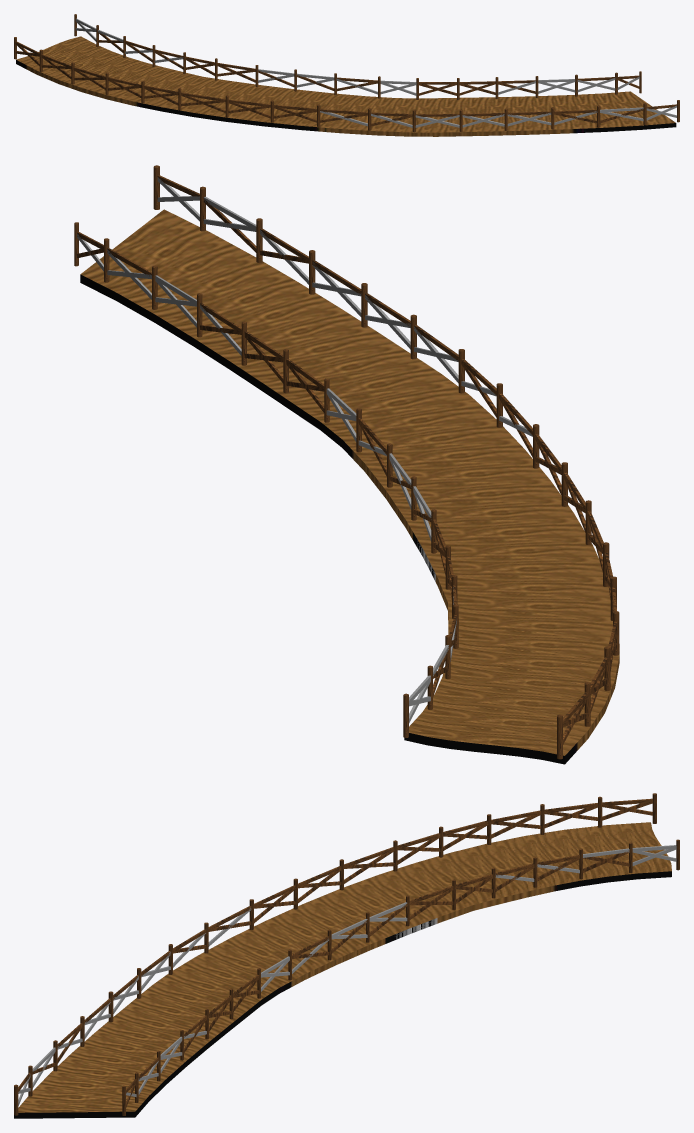
The model's file is ekfl.FBX.
The picture shows the model from 3 angles, top to bottom: view 1: azimuth 30°, elevation 25°; view 2: azimuth 150°, elevation 25°; view 3: azimuth 270°, elevation 25°; orthographic projection. The views are drawn at different scales.
Parts seen in each view (by area): view 1: Arc001; view 2: Arc001; view 3: Arc001.
Part boxes in pixels (box(x1,y1,x2,y2)): Arc001: box(16, 36, 676, 136); Arc001: box(80, 209, 619, 764); Arc001: box(14, 822, 671, 1118).
Bounding box in the file's own units: 212 × 11.79 × 203.
Materials: 3 (2 with a texture image).
